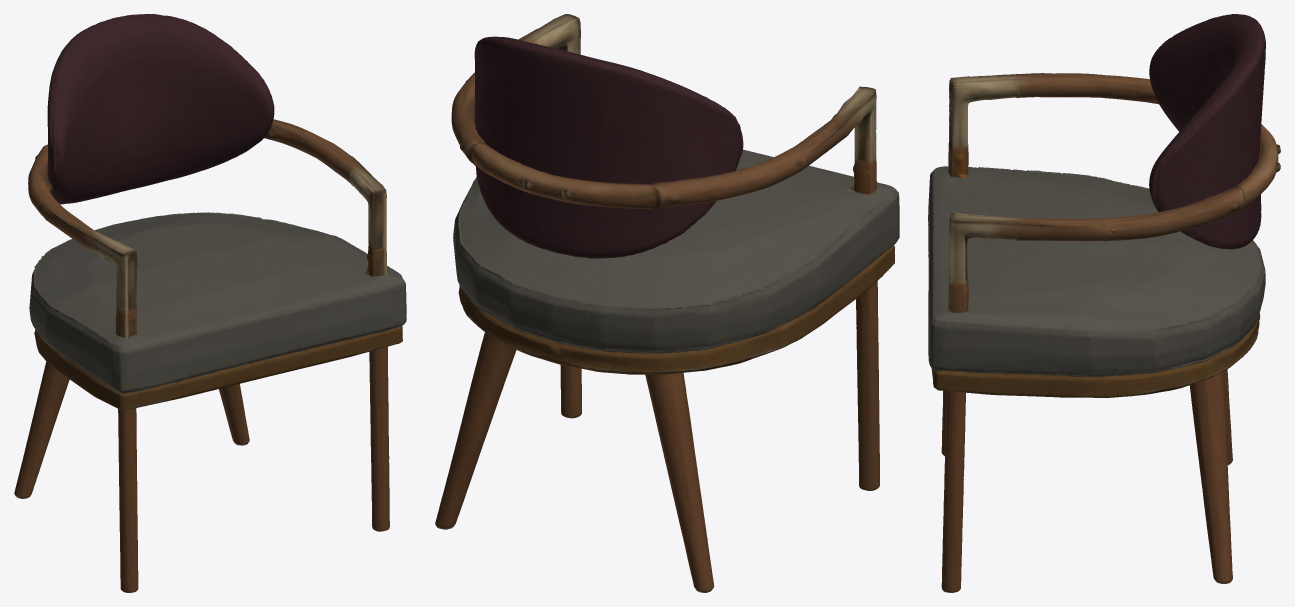
The model's file is modern_armchair_s4kpud.glb.
The picture shows the model from 3 angles, left to right: view 1: azimuth 30°, elevation 25°; view 2: azimuth 150°, elevation 25°; view 3: azimuth 270°, elevation 25°; orthographic projection. The views are drawn at different scales.
Parts seen in each view (by area): view 1: world; view 2: world; view 3: world.
Boxes of the visible parts, bbox=[...] form: world: bbox=[14, 14, 406, 592]; world: bbox=[435, 14, 899, 592]; world: bbox=[928, 14, 1280, 592].
Size of the model in its own units: 0.7026 by 1 by 0.6583.
1 material, 1 textured.
